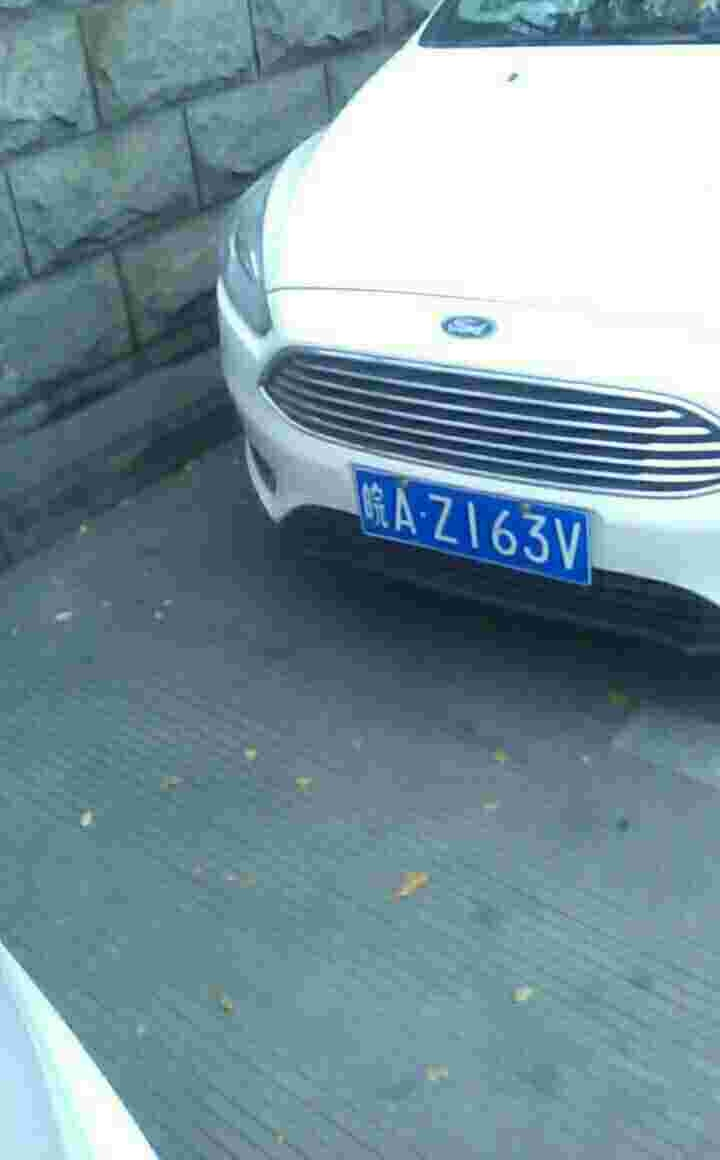license_plate: (350, 461, 597, 577)
